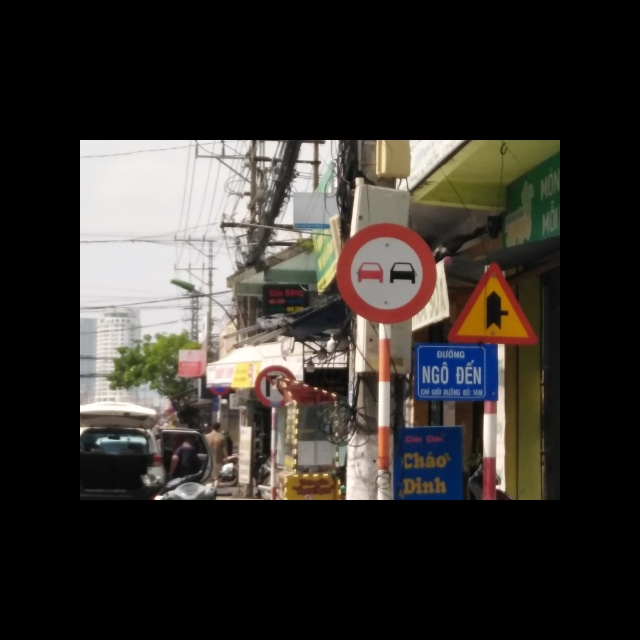Cấm vượt: (335, 220, 438, 323)
Giao nhau với đường không ưu tiên: (446, 261, 538, 347)
